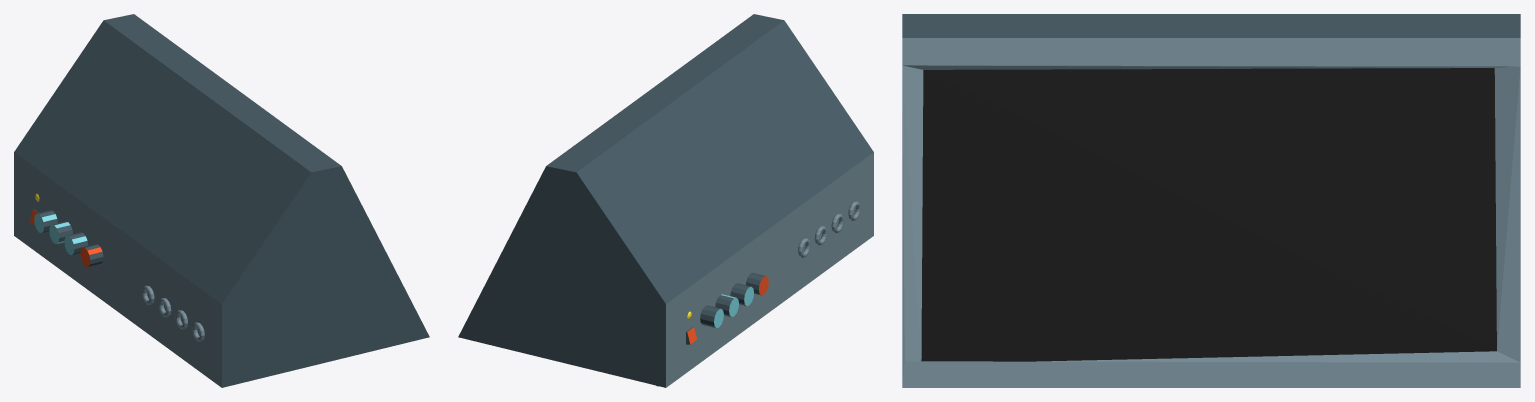
3 renders of one model, left to right at view 1: azimuth 30°, elevation 25°; view 2: azimuth 150°, elevation 25°; view 3: azimuth 270°, elevation 25°, orthographic. The views are drawn at different scales.
Visible parts, largest first — view 1: mesh_355800739, mesh_1990572017, mesh_268863367, mesh_1484190439, mesh_1682937251; view 2: mesh_355800739, mesh_1484190439, mesh_1682937251, mesh_268863367, mesh_1990572017; view 3: mesh_355800739.
Boxes of the visible parts, x1=… form: mesh_355800739: x1=14, y1=14, x2=429, y2=387; mesh_1990572017: x1=80, y1=244, x2=103, y2=266; mesh_268863367: x1=64, y1=232, x2=88, y2=255; mesh_1484190439: x1=34, y1=210, x2=57, y2=232; mesh_1682937251: x1=49, y1=221, x2=72, y2=244; mesh_355800739: x1=458, y1=14, x2=873, y2=387; mesh_1484190439: x1=700, y1=305, x2=723, y2=327; mesh_1682937251: x1=715, y1=294, x2=738, y2=316; mesh_268863367: x1=730, y1=283, x2=753, y2=305; mesh_1990572017: x1=745, y1=272, x2=768, y2=295; mesh_355800739: x1=902, y1=14, x2=1520, y2=387.
Size of the model in its own units: 38.21 by 32.55 by 62.
